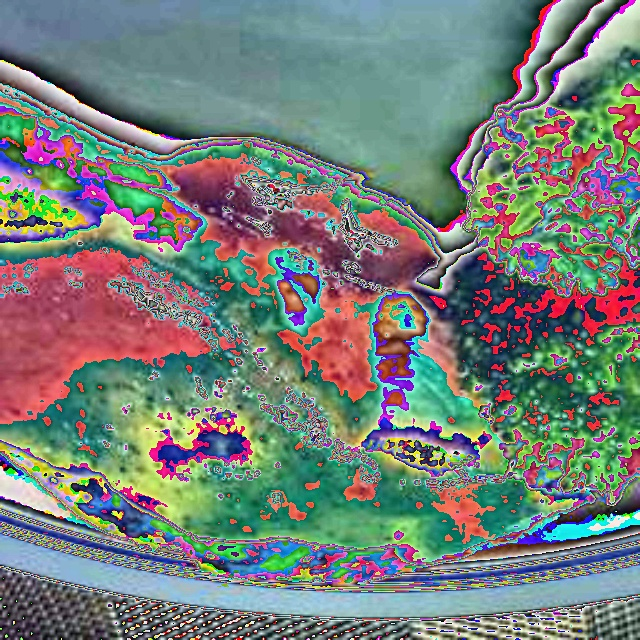background: (0, 45, 640, 587)
